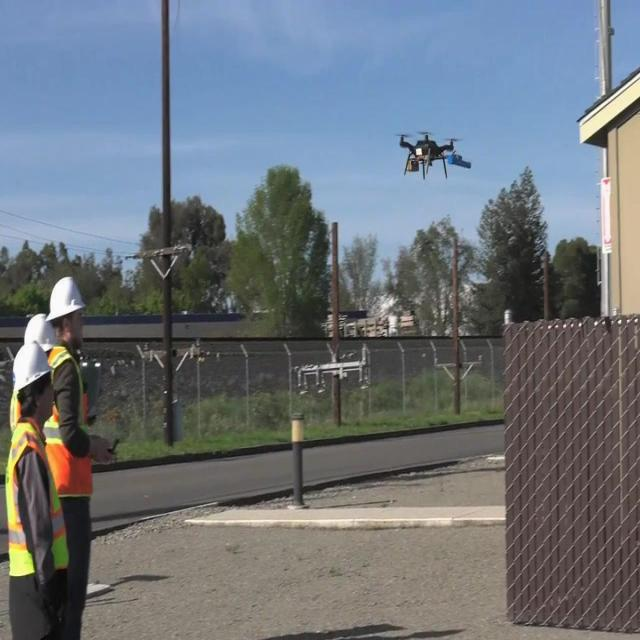drone: (397, 127, 475, 185)
